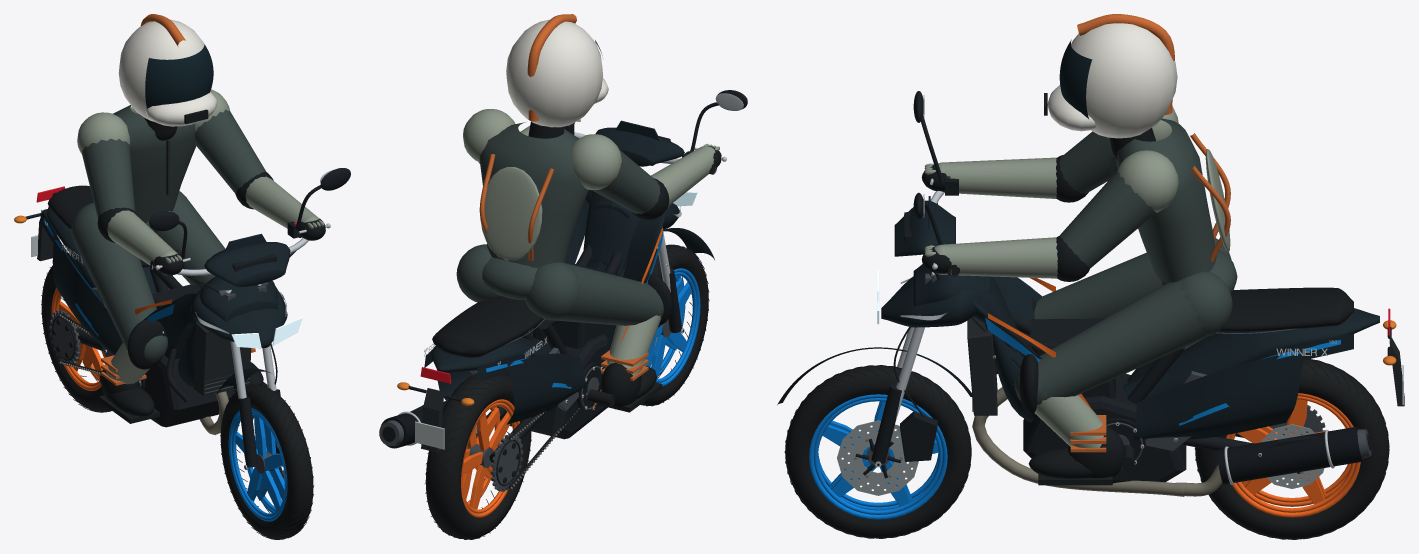
File: winner.glb
The picture shows the model from 3 angles, left to right: view 1: azimuth 30°, elevation 25°; view 2: azimuth 150°, elevation 25°; view 3: azimuth 270°, elevation 25°; orthographic projection. The views are drawn at different scales.
Visible parts, largest first — view 1: Rider, BikeBody, WheelFront, WheelRear; view 2: Rider, BikeBody, WheelRear, WheelFront; view 3: Rider, BikeBody, WheelFront, WheelRear.
Boxes of the visible parts, x1,y1,x2,y2 form: Rider: (71,14,325,423); BikeBody: (14,168,350,469); WheelFront: (220,384,314,539); WheelRear: (41,253,111,412); Rider: (456,14,721,412); BikeBody: (379,90,747,491); WheelRear: (425,373,532,539); WheelFront: (640,244,709,406); Rider: (921,14,1237,485); BikeBody: (777,91,1404,496); WheelFront: (784,365,971,538); WheelRear: (1194,359,1389,539).
Size of the model in its own units: 0.852 by 1.78 by 1.94.
